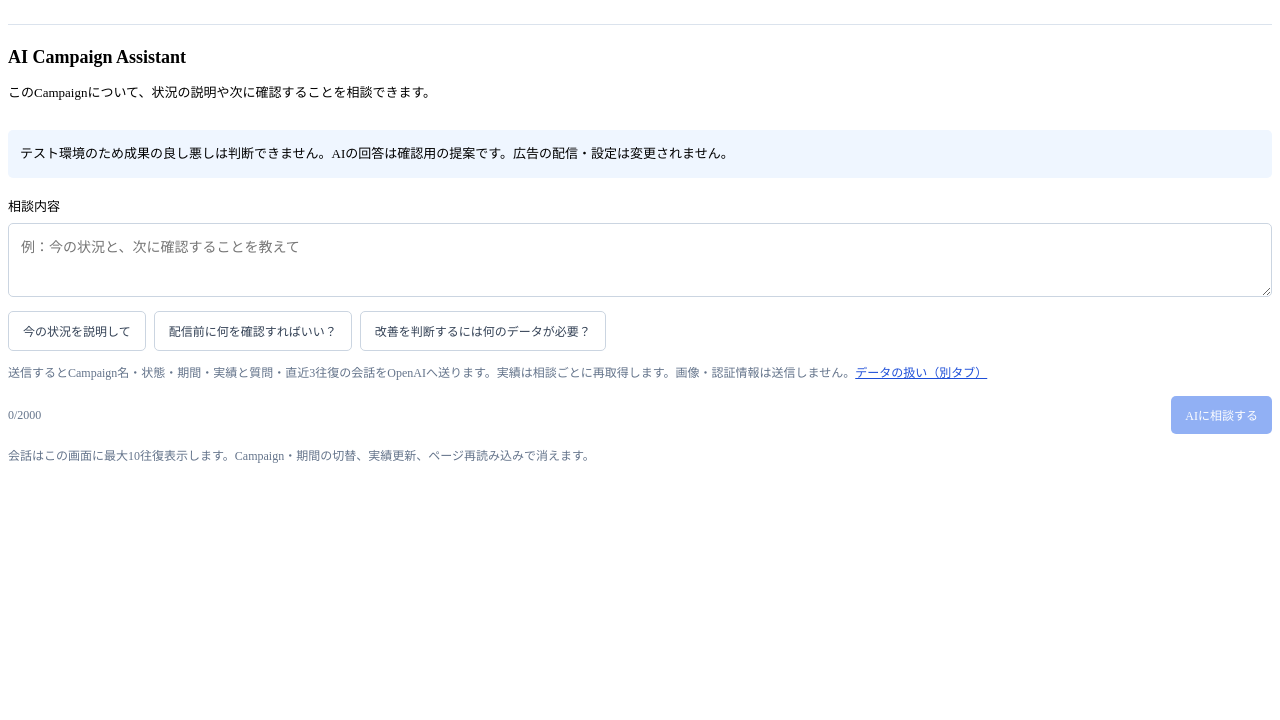
Test: CampaignAssistant › preserves input after API failure and renders no fake answer
In the text box: (640, 260) [8,223,1272,297], type "今の状況は？"
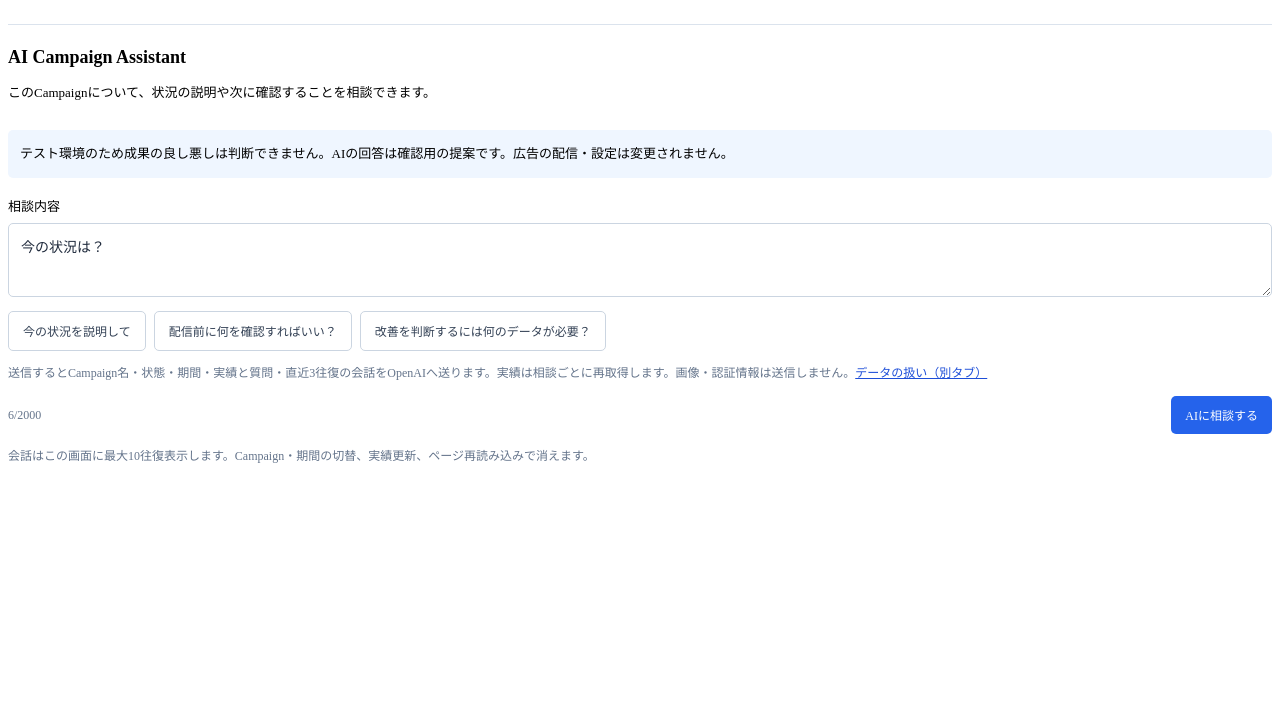
Click the button "AIに相談する": (1222, 415) [1171,396,1272,434]
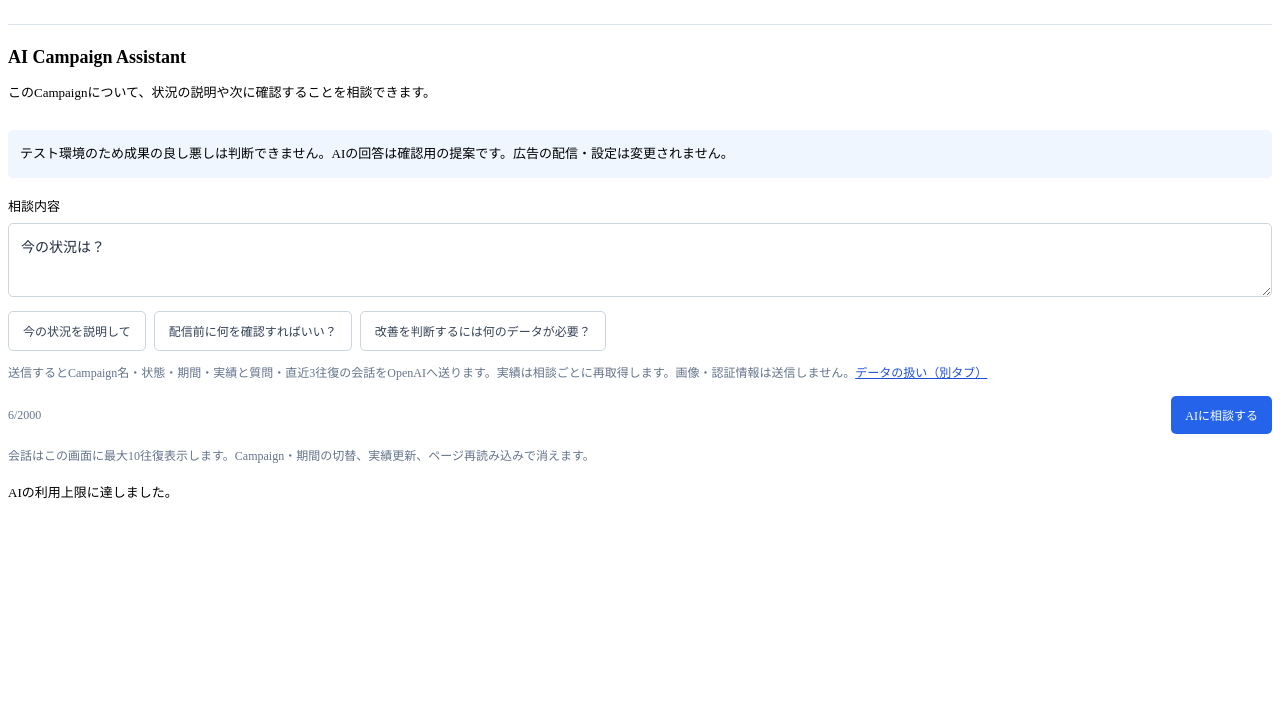
expect the message shows "利用上限": met, box [8,485,178,500]
